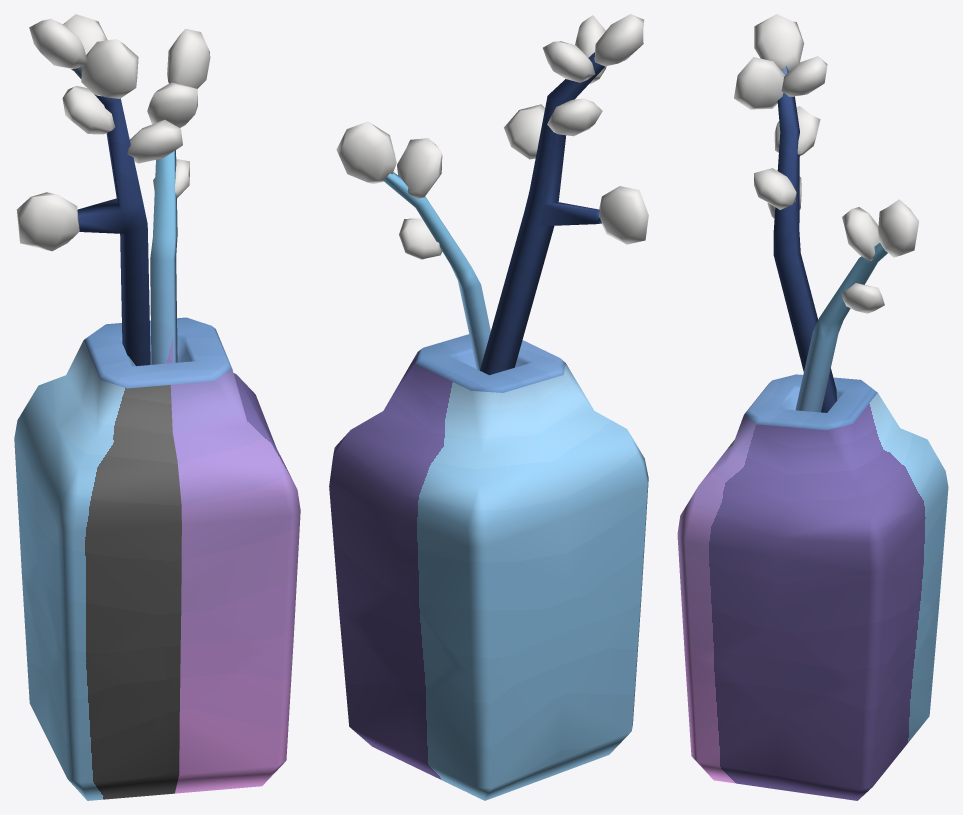
The model's file is P_AP23Vase.glb.
The picture shows the model from 3 angles, left to right: view 1: azimuth 30°, elevation 25°; view 2: azimuth 150°, elevation 25°; view 3: azimuth 270°, elevation 25°; orthographic projection. The views are drawn at different scales.
Visible parts, largest first — view 1: P_AP23Vase; view 2: P_AP23Vase; view 3: P_AP23Vase.
Part boxes in pixels (bbox=[...]): P_AP23Vase: bbox=[14, 14, 300, 800]; P_AP23Vase: bbox=[329, 14, 648, 800]; P_AP23Vase: bbox=[677, 14, 948, 800].
Size of the model in its own units: 0.2529 by 0.6661 by 0.2368.
1 material, 1 textured.
